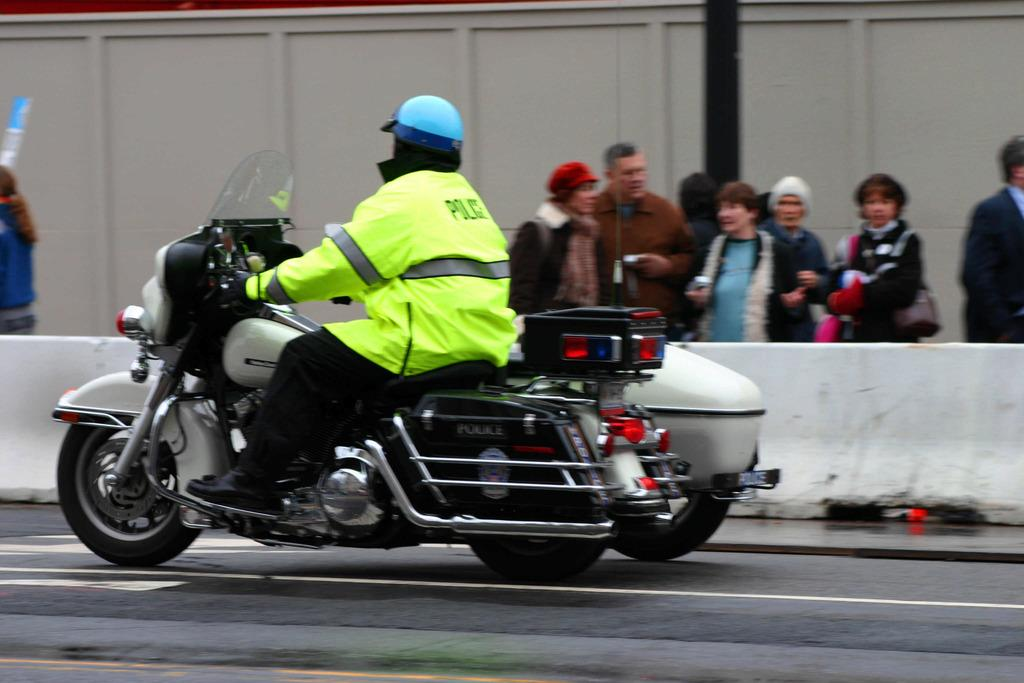helmet: (379, 94, 464, 171)
nohelmet: (545, 160, 603, 217), (602, 141, 651, 203), (853, 172, 907, 227), (714, 180, 762, 237), (767, 175, 814, 230), (677, 171, 723, 224)
